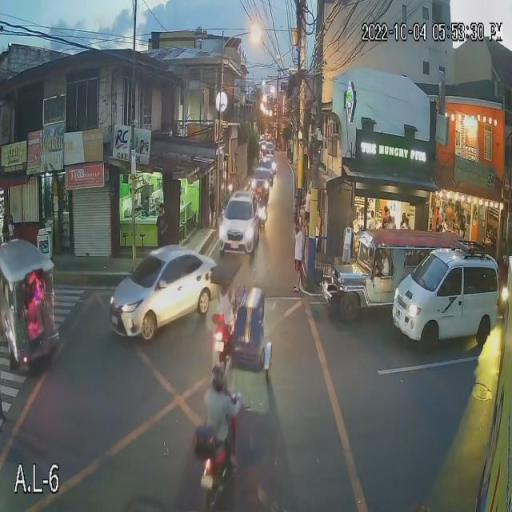helmet: (207, 368, 224, 393)
motorcycle: (196, 448, 235, 500)
rider: (208, 385, 232, 447)
